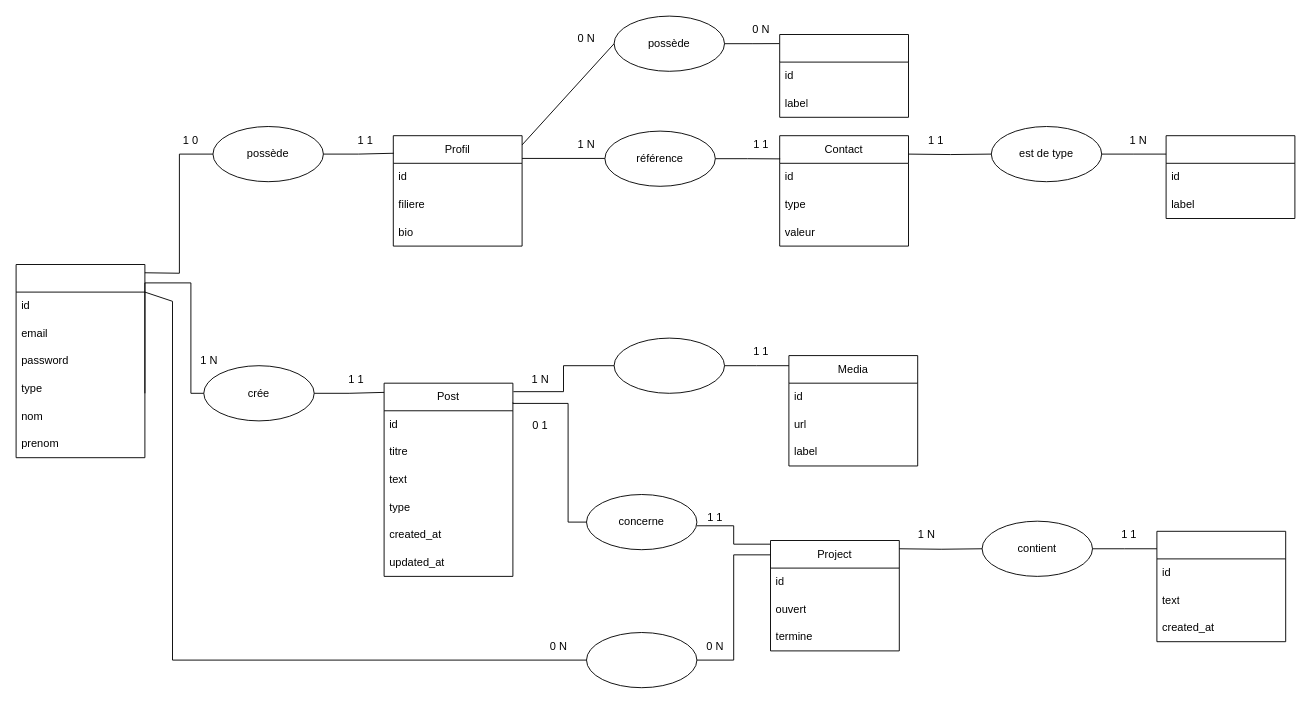
Some shapes in this 1311 by 704 pixel diagram are drawn without their labels. The box of each missing label's shape, as (x1, y1, x2, y2) in pixels:
Competences: (779, 34, 908, 117)
contribue: (586, 632, 697, 688)
inclut: (613, 337, 724, 393)
Message: (1156, 530, 1286, 642)
TypeContact: (1165, 135, 1295, 218)
Users: (15, 264, 145, 458)
